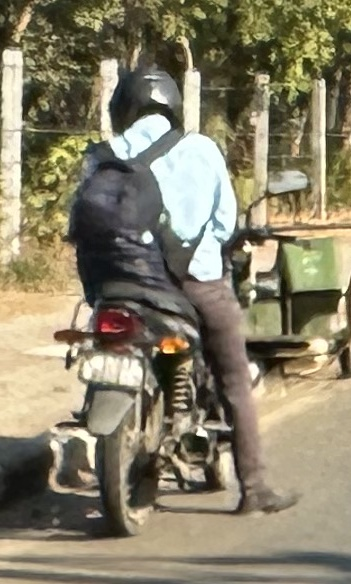BikeWithRider: (41, 54, 310, 543)
Helmet: (100, 58, 191, 140)
